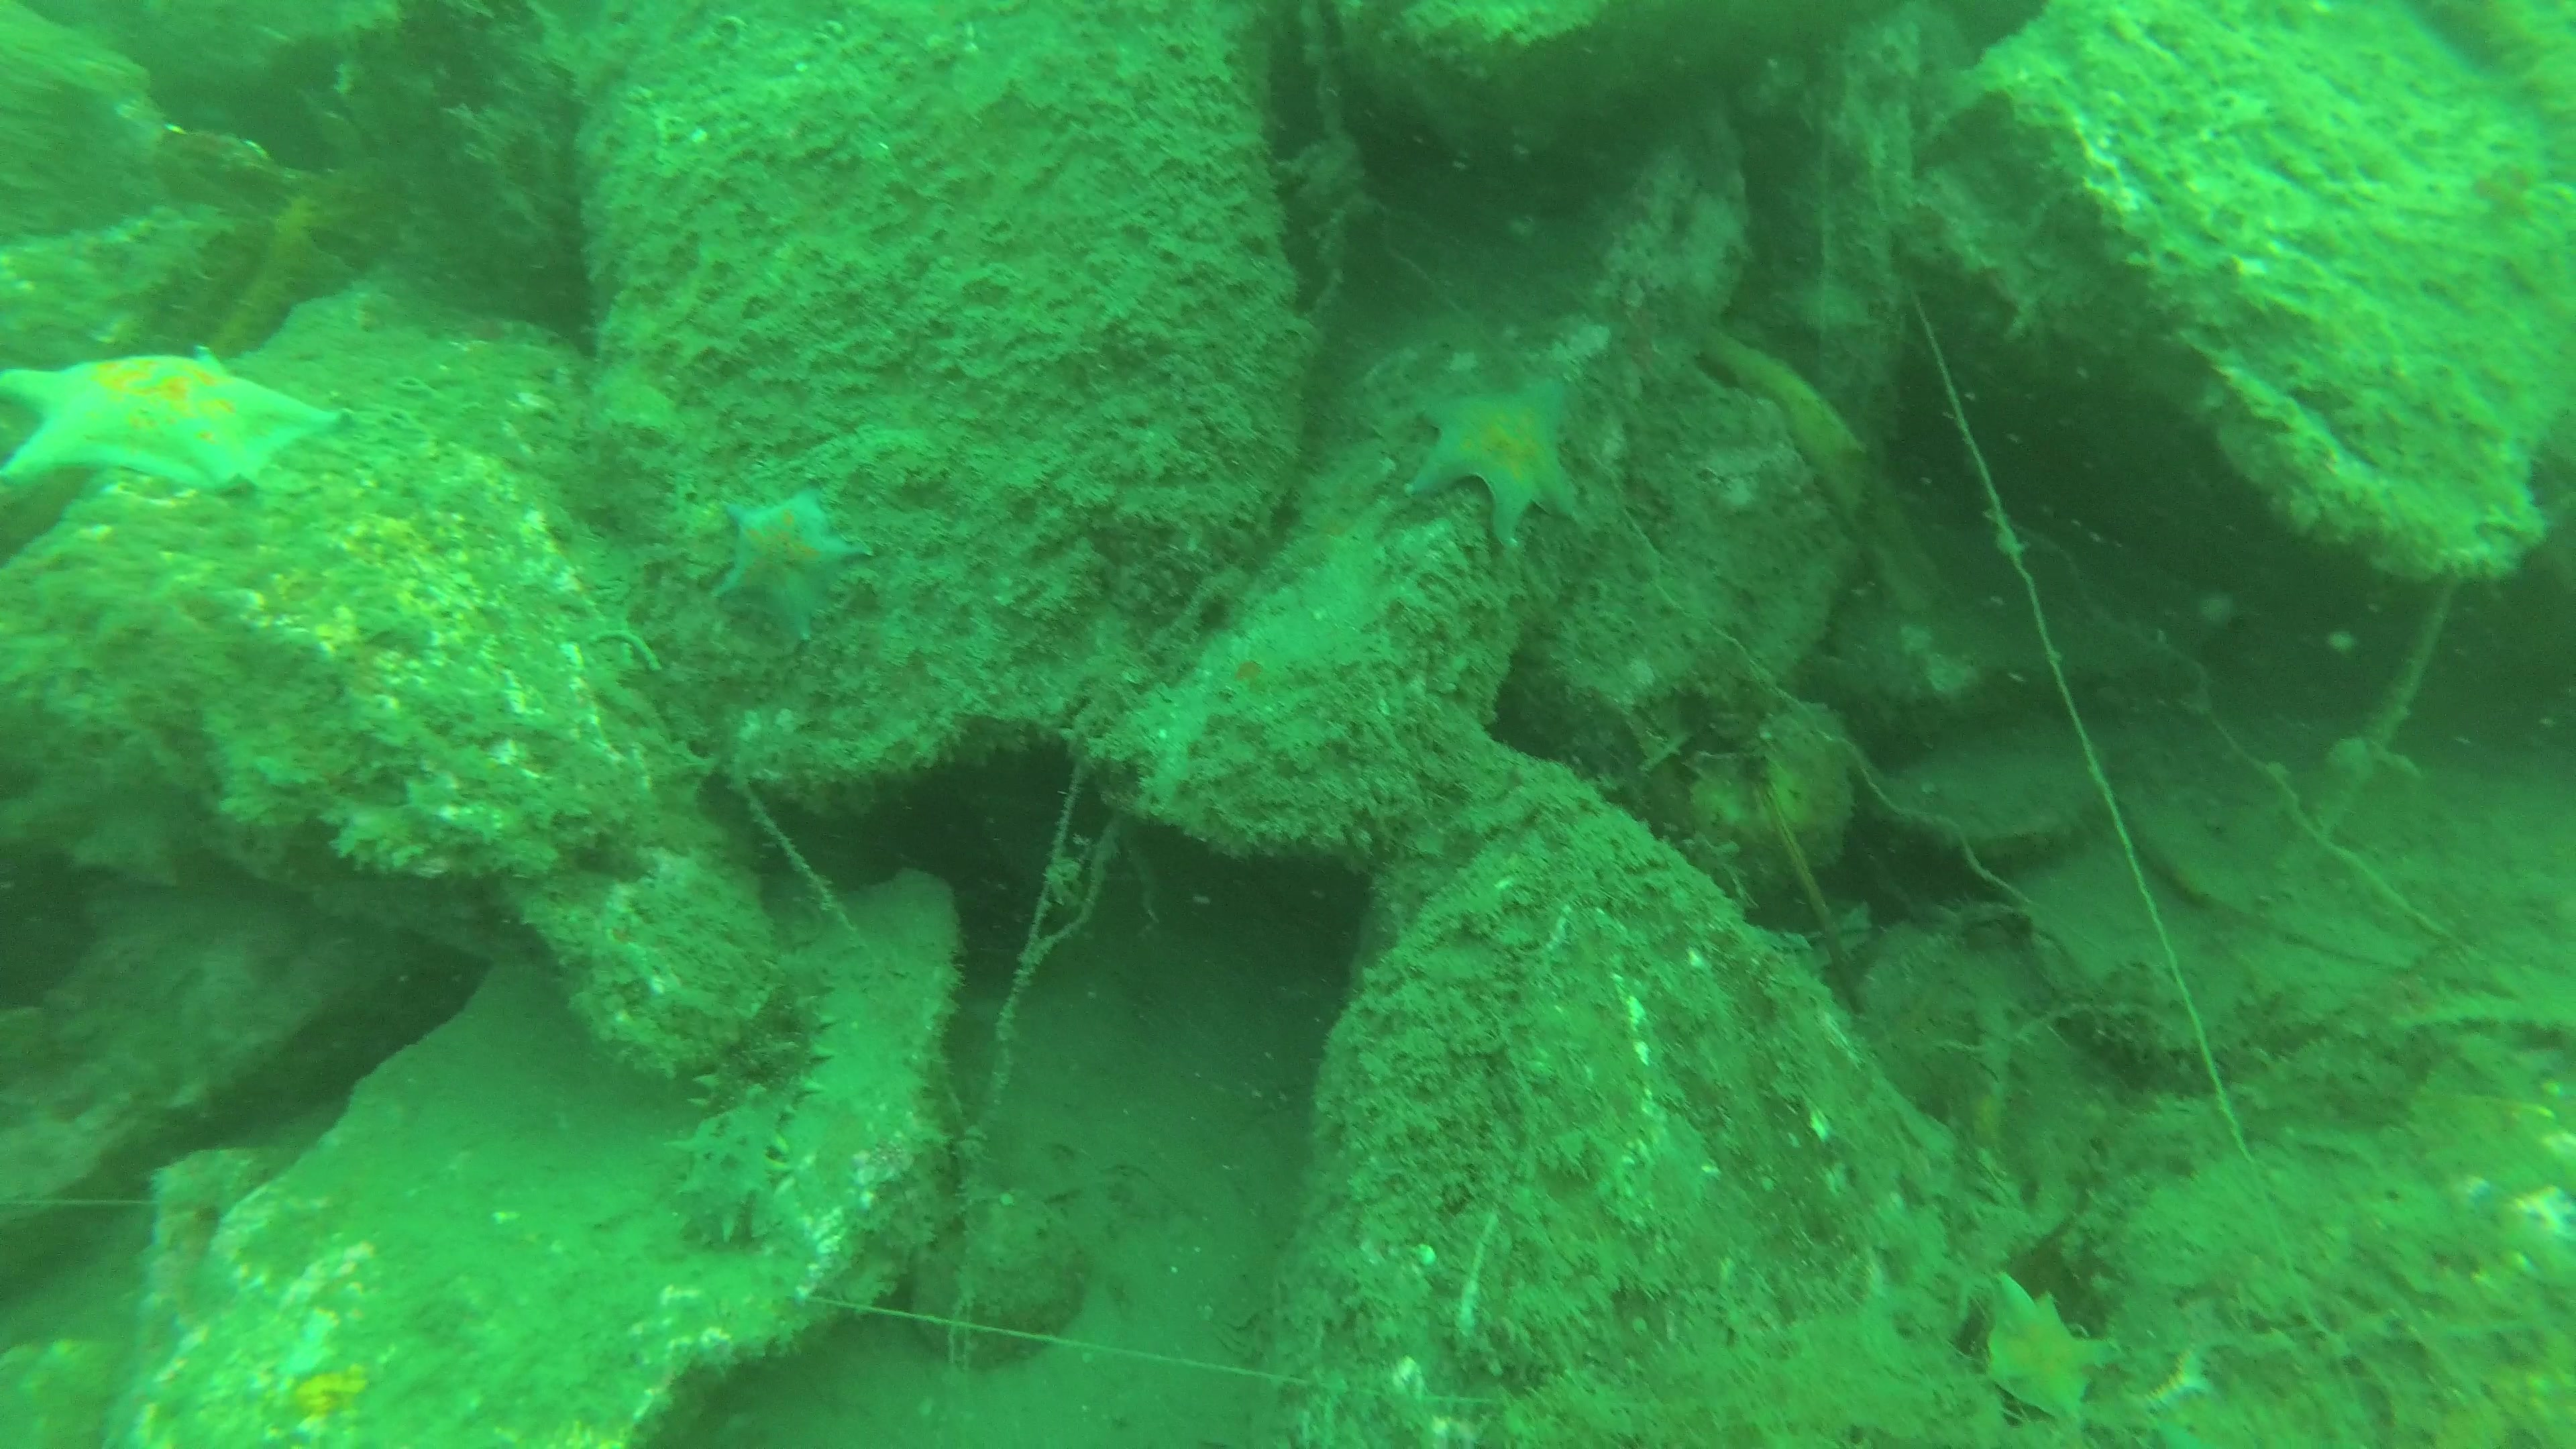holothurian: (658, 938, 844, 1247)
starfish: (0, 338, 363, 502), (1401, 379, 1594, 548), (702, 479, 872, 648), (1967, 1270, 2135, 1435)
